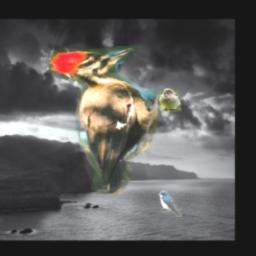Sparrow: (160, 89, 182, 112)
Swallow: (159, 191, 183, 218)
Woodpecker: (50, 47, 162, 195)
